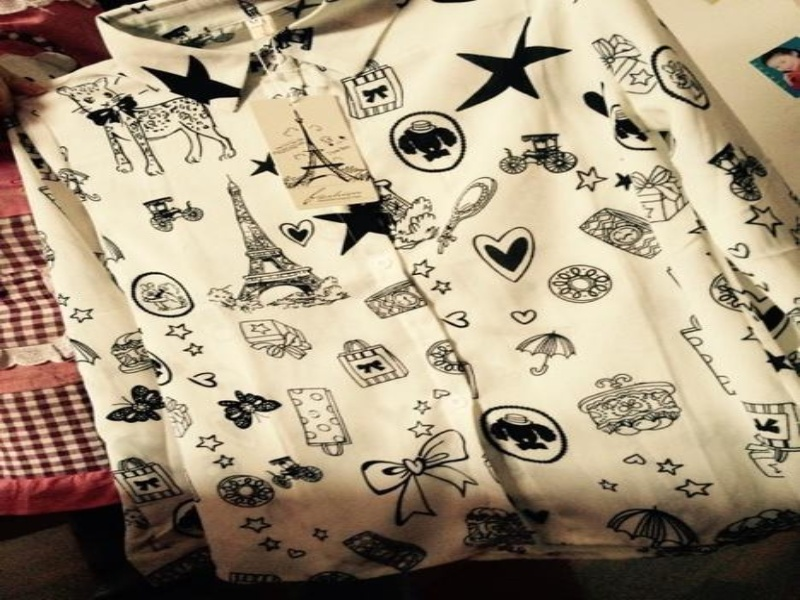long_sleeved_shirt: (9, 4, 797, 586)
